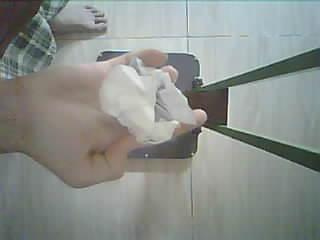paper: (100, 58, 197, 143)
